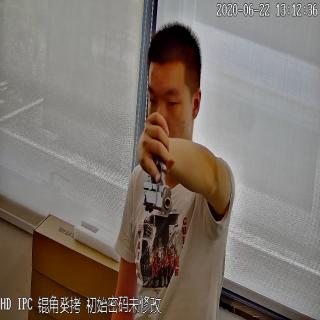gun: (140, 118, 171, 216)
